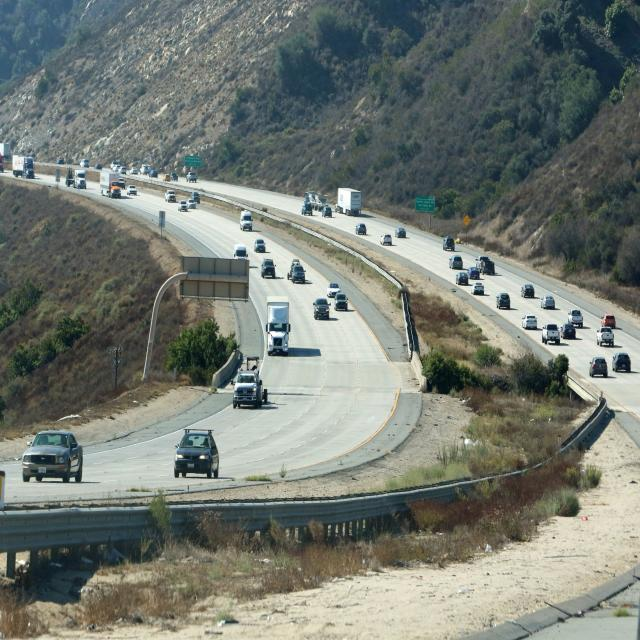Trucks: (266, 296, 289, 356), (334, 187, 362, 216), (12, 154, 36, 180), (100, 170, 120, 199), (65, 167, 88, 191)
